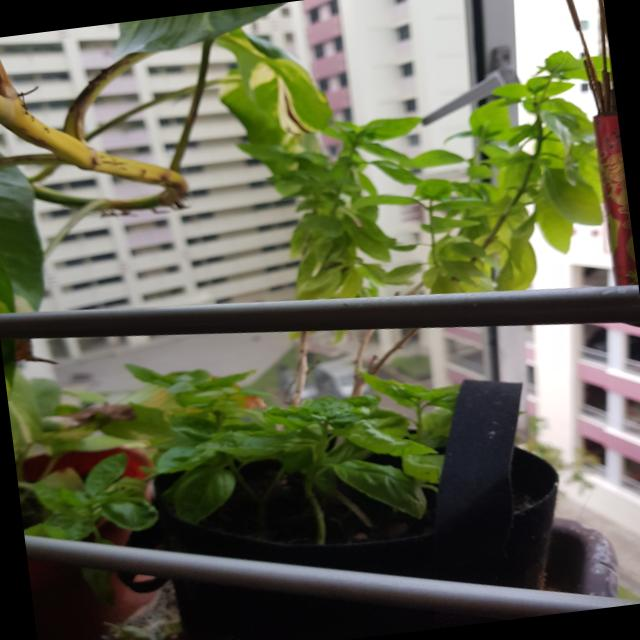Sweet Basil: (116, 31, 640, 542)
